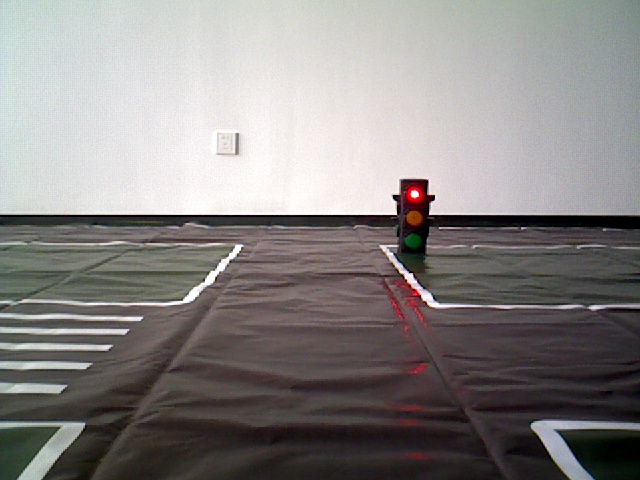red: (400, 178, 427, 249)
